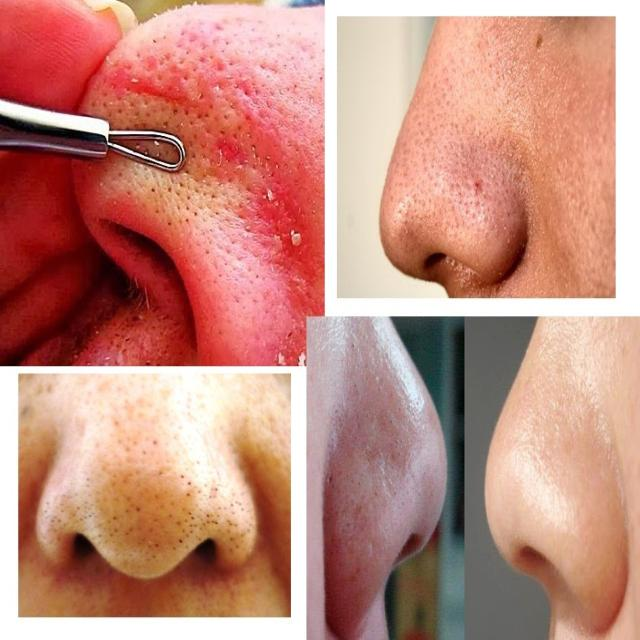Acne: (91, 0, 312, 318), (19, 392, 278, 612), (381, 55, 565, 296), (324, 330, 442, 627)
